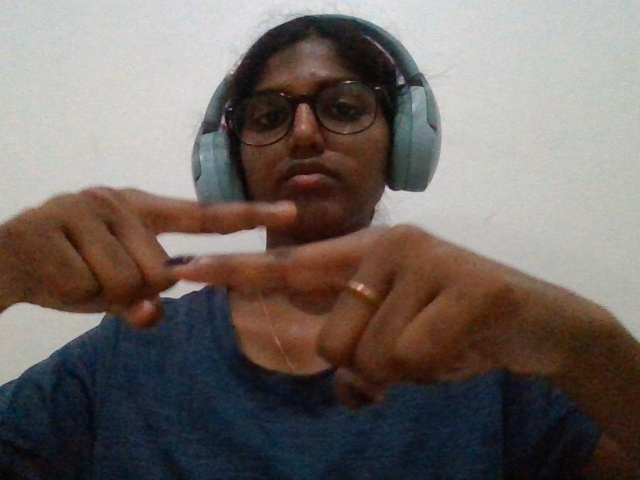Sign: (7, 150, 586, 420)
